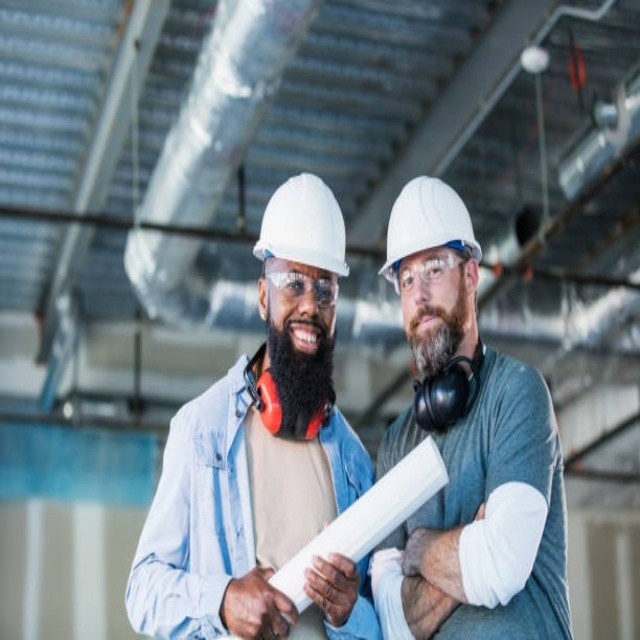Gafas: (264, 261, 342, 308), (395, 250, 470, 294)
Sin_guantes: (224, 563, 299, 640), (303, 547, 362, 628)
Sin_mascara: (283, 314, 325, 365), (407, 301, 448, 348)
